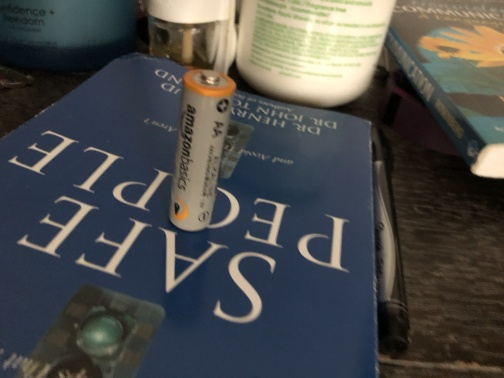battery: (167, 67, 237, 234)
